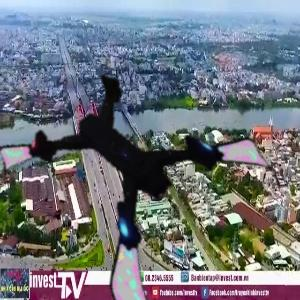drone: (27, 55, 268, 296)
